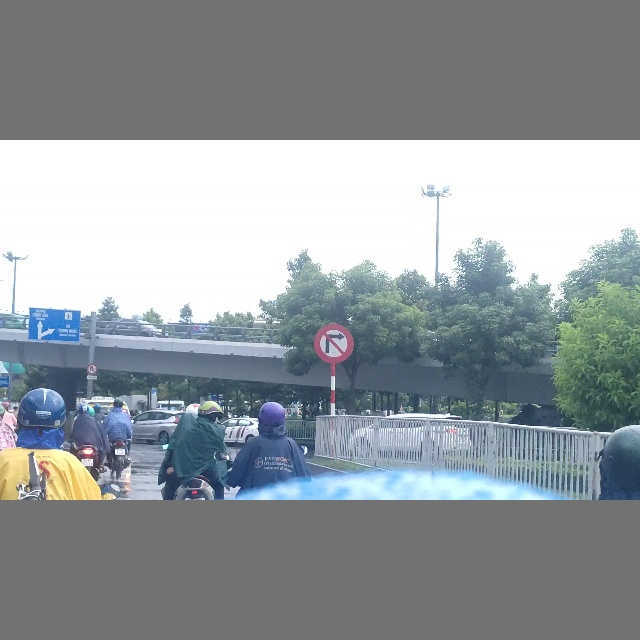P.123b: (314, 322, 354, 364)
